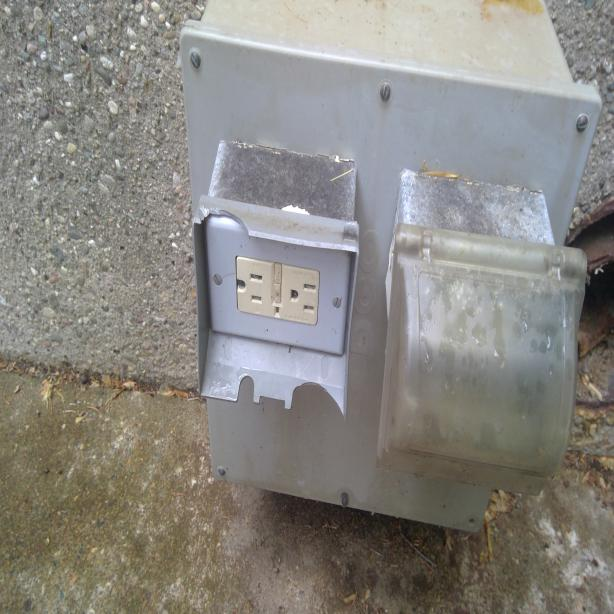typeb: (238, 259, 272, 321), (285, 266, 318, 326)
